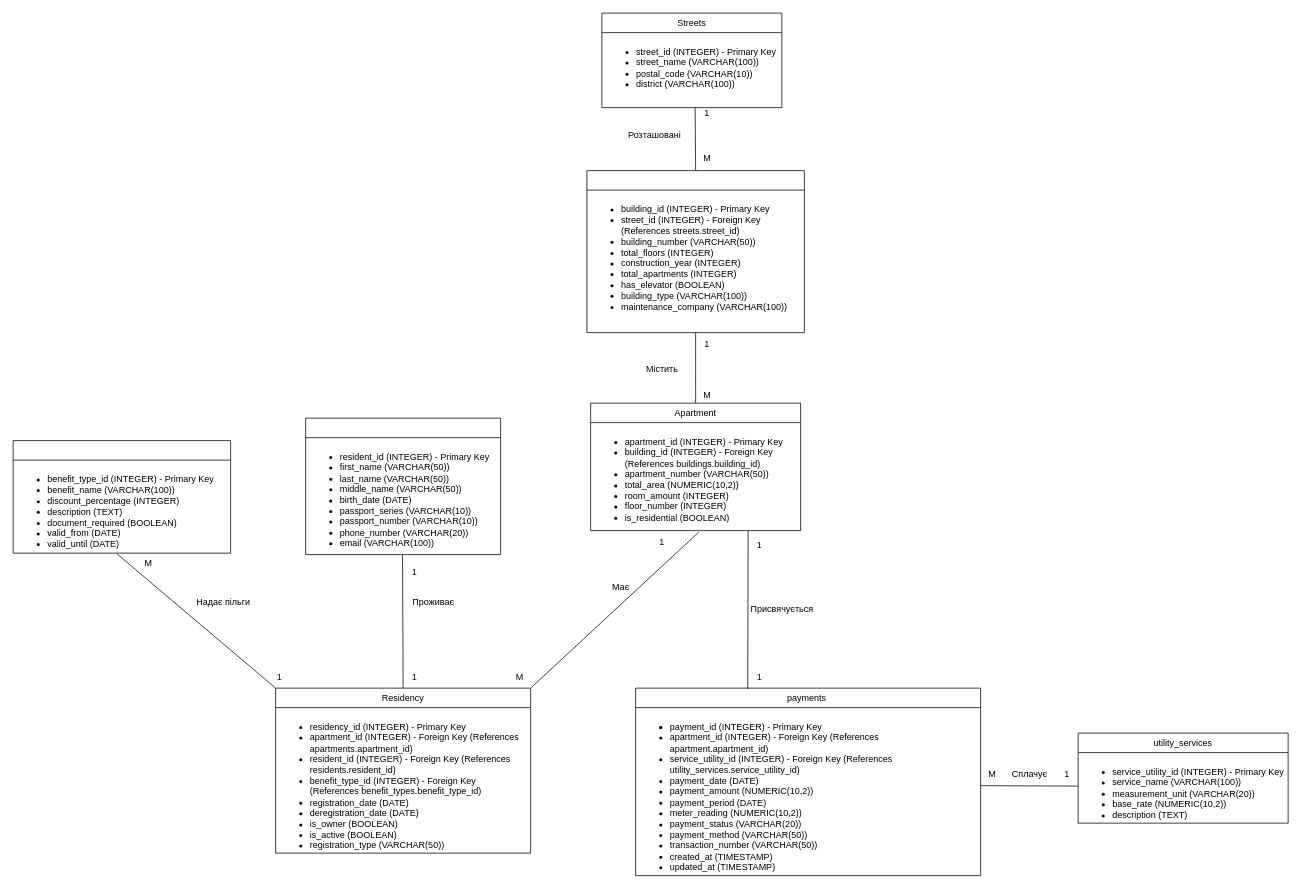
The diagram is 1301 pixels wide and 891 high, and some of its shapes have lost their labels. Each missing label, with the box of its shape:
benefit_types: (12, 440, 231, 553)
Buildings: (586, 170, 804, 333)
Residents: (305, 417, 501, 555)
